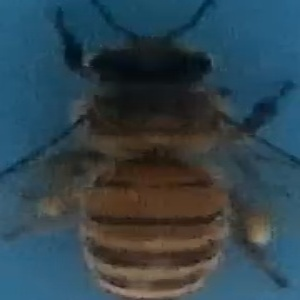bee: (13, 3, 292, 300)
